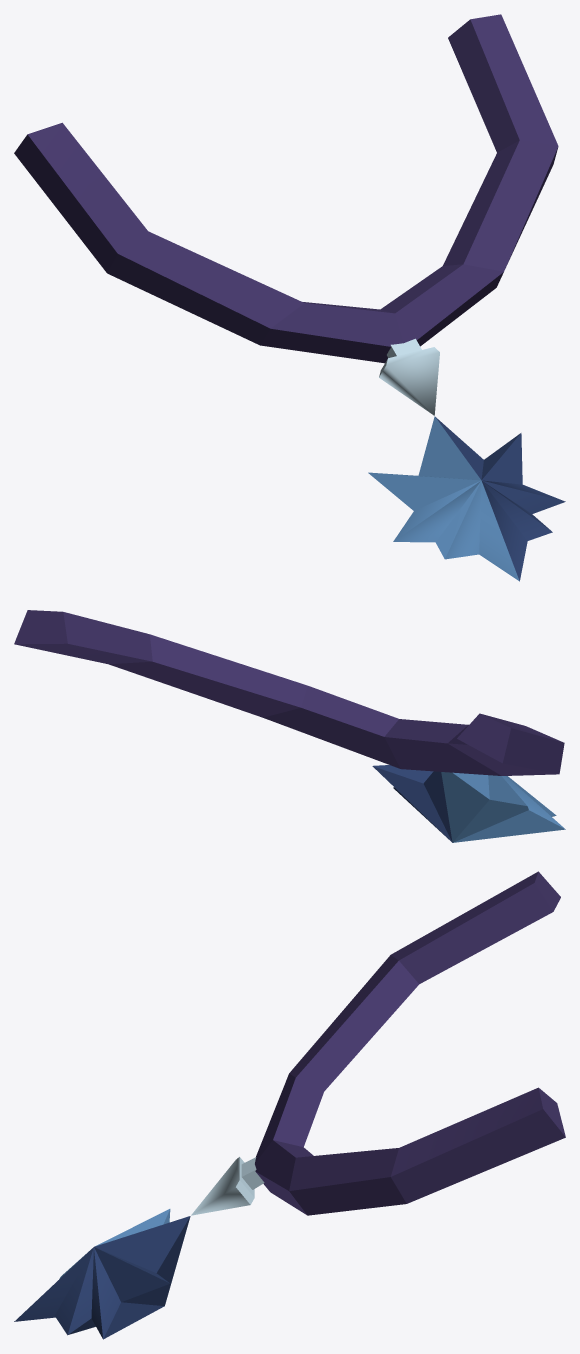
Rendered from Prop.Necklace_03.fbx.
3 renders of one model, top to bottom at view 1: azimuth 30°, elevation 25°; view 2: azimuth 150°, elevation 25°; view 3: azimuth 270°, elevation 25°, orthographic. The views are drawn at different scales.
Visible parts, largest first — view 1: Prop_Necklace_03; view 2: Prop_Necklace_03; view 3: Prop_Necklace_03.
Boxes of the visible parts, box(x1,y1,x2,y2) form: Prop_Necklace_03: box(14, 14, 565, 581); Prop_Necklace_03: box(14, 610, 565, 842); Prop_Necklace_03: box(14, 871, 565, 1339).
Bounding box in the file's own units: 17.17 × 11.14 × 16.51.
